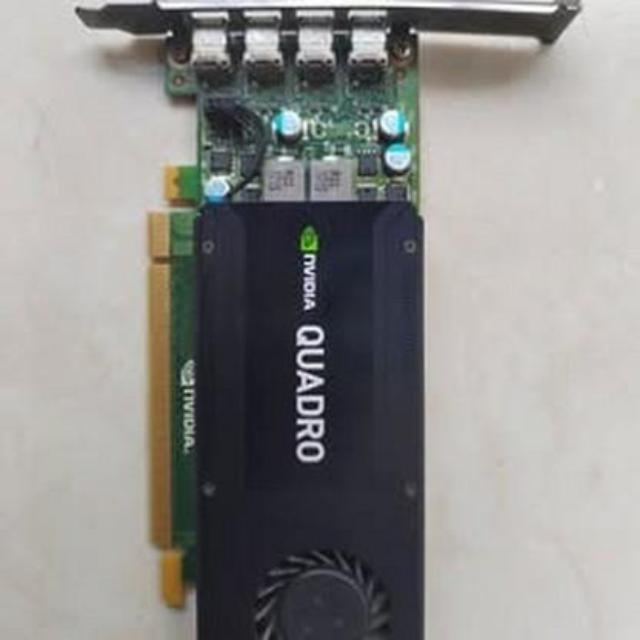GPU: (148, 0, 434, 640)
